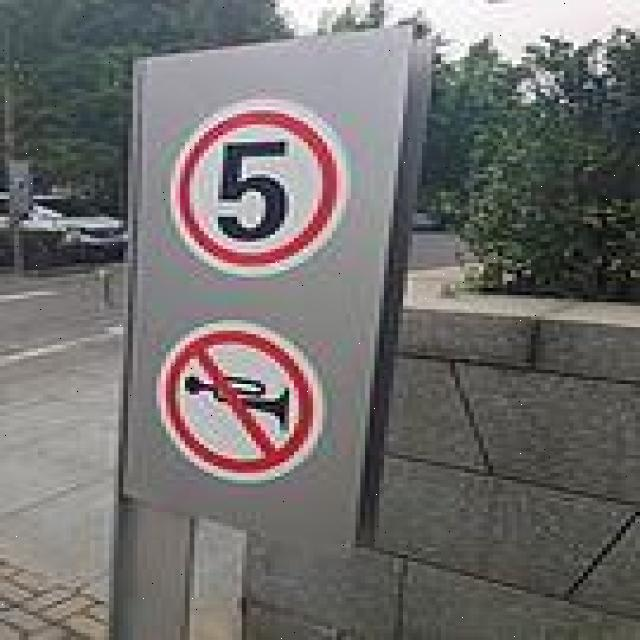speed limit 10: (167, 98, 348, 279)
